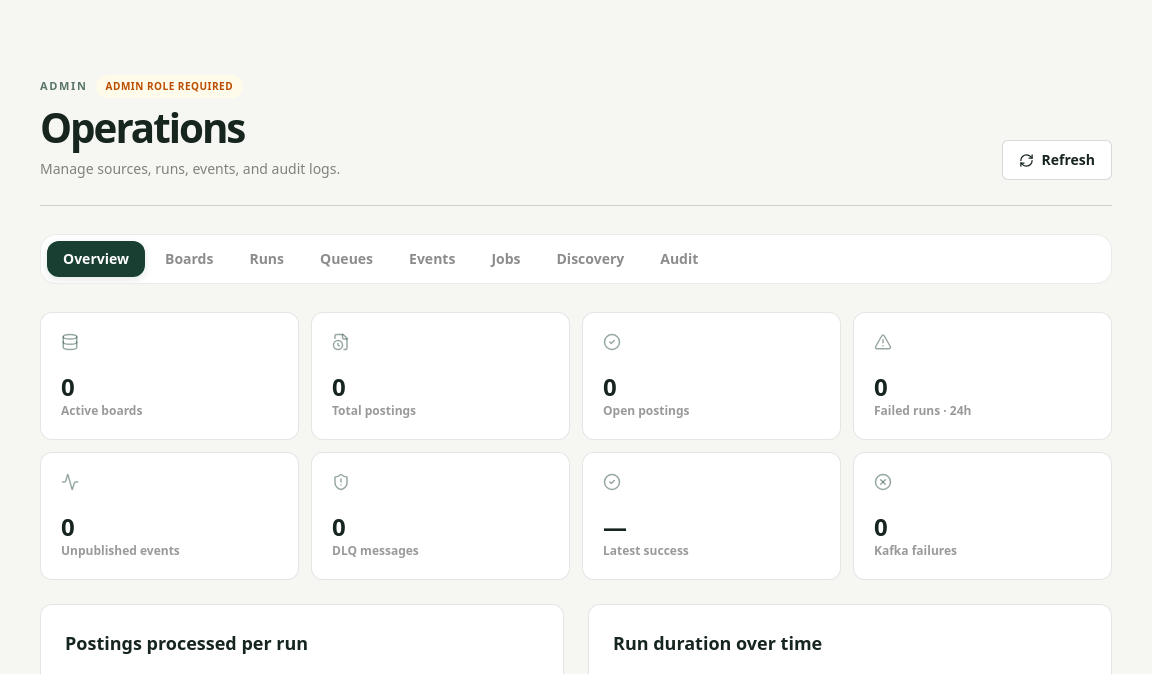
it: AdminPage › shows the empty boards state
The width and height of the screenshot is (1152, 674).
Click the button "boards" at (189, 259), box [149,241,229,277]
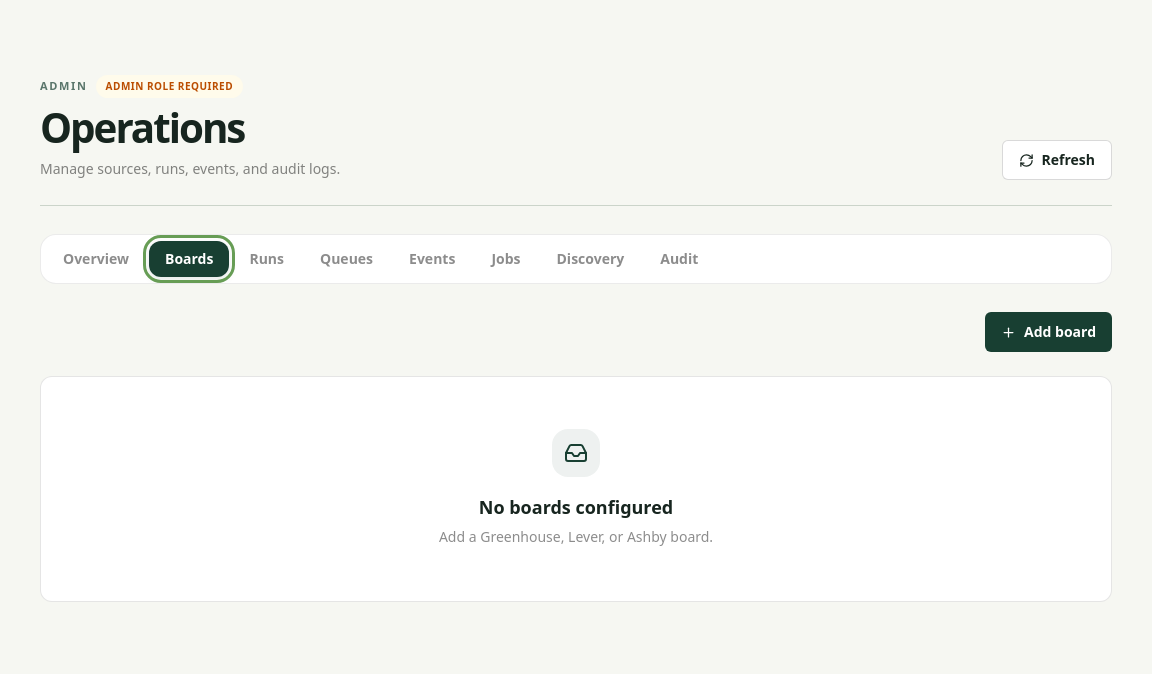
expect the heading "No boards configured" is shown: met, box [479,495,673,519]
